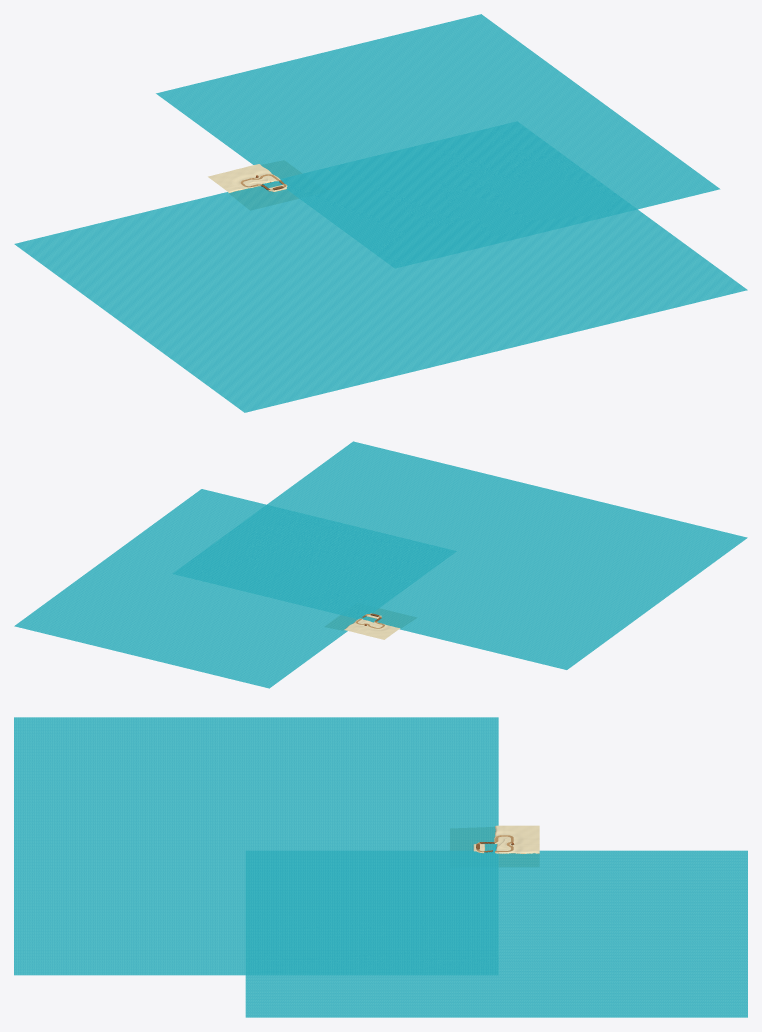
3 views of the same model, one above another, from view 1: azimuth 30°, elevation 25°; view 2: azimuth 150°, elevation 25°; view 3: azimuth 270°, elevation 25° (orthographic). The views are drawn at different scales.
Parts seen in each view (by area): view 1: Sea South, Sea East, Sand; view 2: Sea South, Sea East, Sand; view 3: Sea South, Sea East, Sand.
Boxes of the visible parts, box(x1,y1,x2,y2) form: Sea South: box(14, 121, 747, 412); Sea East: box(156, 14, 720, 267); Sand: box(208, 164, 287, 193); Sea South: box(177, 441, 747, 669); Sea East: box(14, 489, 456, 688); Sand: box(344, 613, 400, 639); Sea South: box(14, 717, 498, 975); Sea East: box(245, 850, 747, 1017); Sand: box(473, 825, 539, 853).
Size of the model in its own units: 3960 by 27.94 by 4090.
13 materials, 13 textured.
